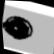correct: (1, 8, 38, 46)
